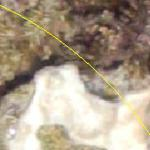alive: (9, 5, 145, 148)
